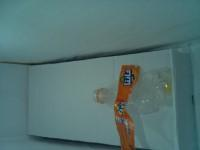bottle: (88, 68, 172, 114)
